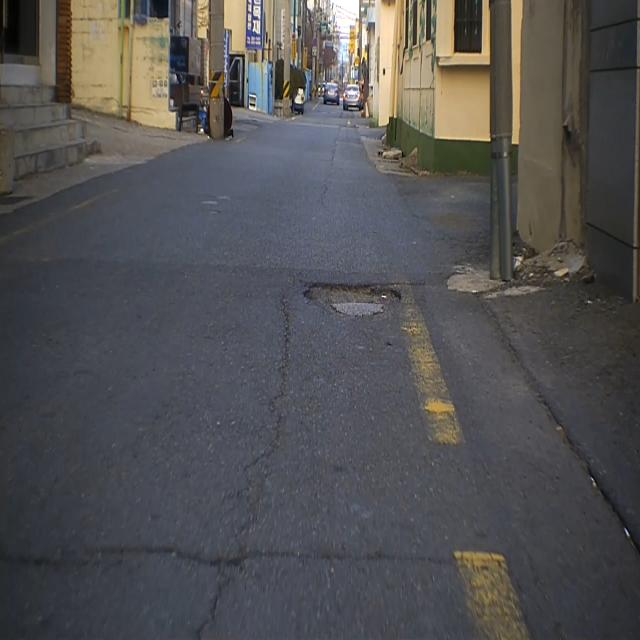Pothole: (298, 276, 405, 332)
